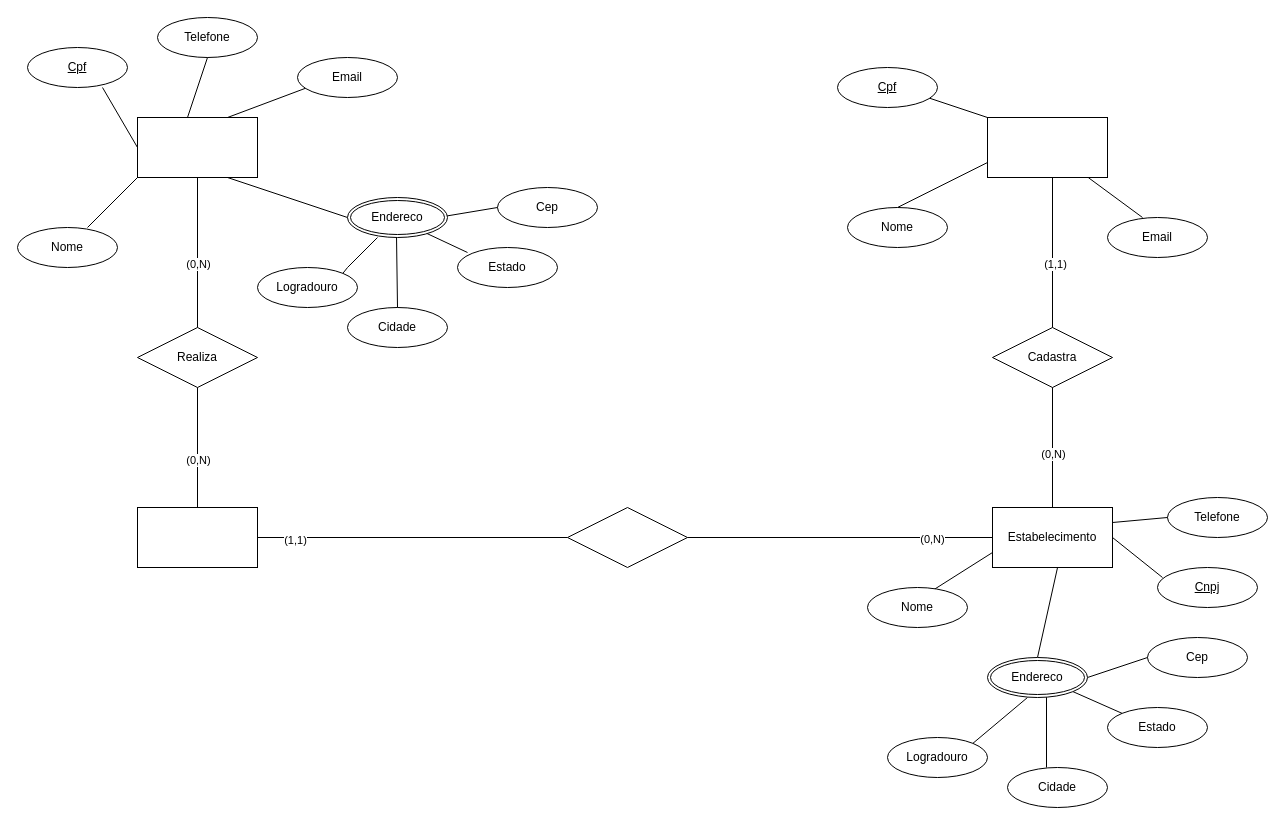
The diagram is 1285 pixels wide and 825 high, and some of its shapes have lost their labels. The shapes that lost their labels are listed below. From the top down, each one's centre as x and y in pixels, then its label:
At (x=197, y=147): "Usuário".
At (x=1047, y=147): "Administrador".
At (x=197, y=537): "Pesquisa".
At (x=627, y=537): "Retorna".
